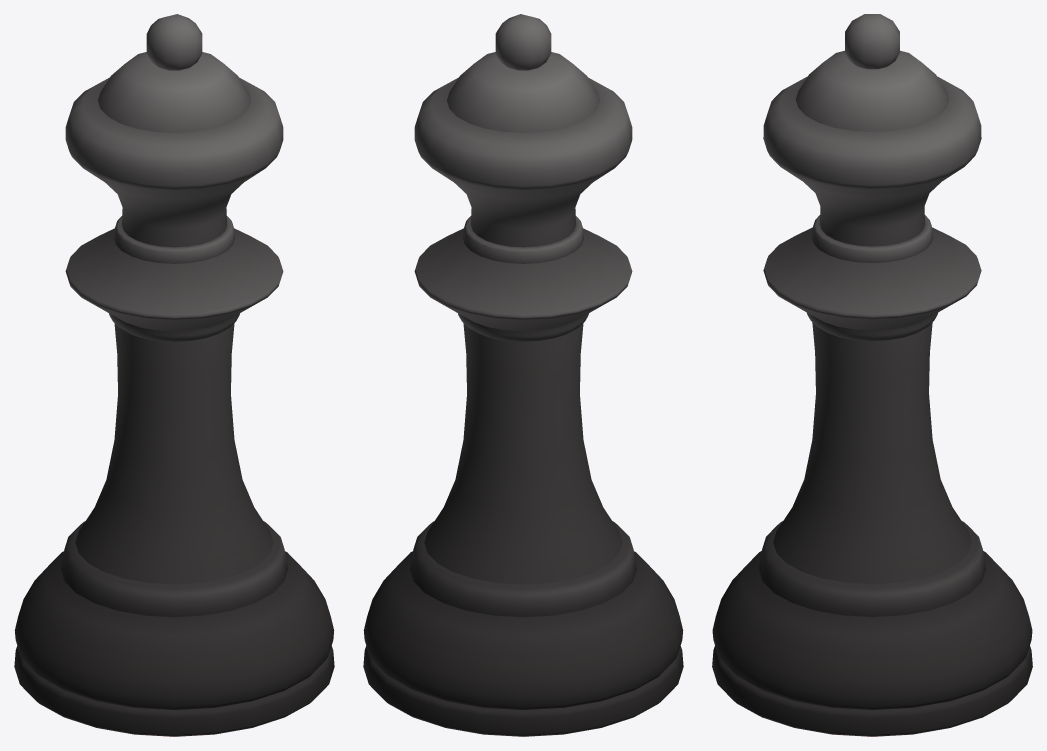
The model's file is Chess_Black_Queen_01.fbx.
The picture shows the model from 3 angles, left to right: view 1: azimuth 30°, elevation 25°; view 2: azimuth 150°, elevation 25°; view 3: azimuth 270°, elevation 25°; orthographic projection.
Parts seen in each view (by area): view 1: Chess_Black_Queen_01; view 2: Chess_Black_Queen_01; view 3: Chess_Black_Queen_01.
Boxes of the visible parts, x1,y1,x2,y2 form: Chess_Black_Queen_01: (14, 14, 334, 736); Chess_Black_Queen_01: (363, 14, 683, 736); Chess_Black_Queen_01: (712, 14, 1032, 736).
Bounding box in the file's own units: 4.01 × 9.09 × 4.01.
